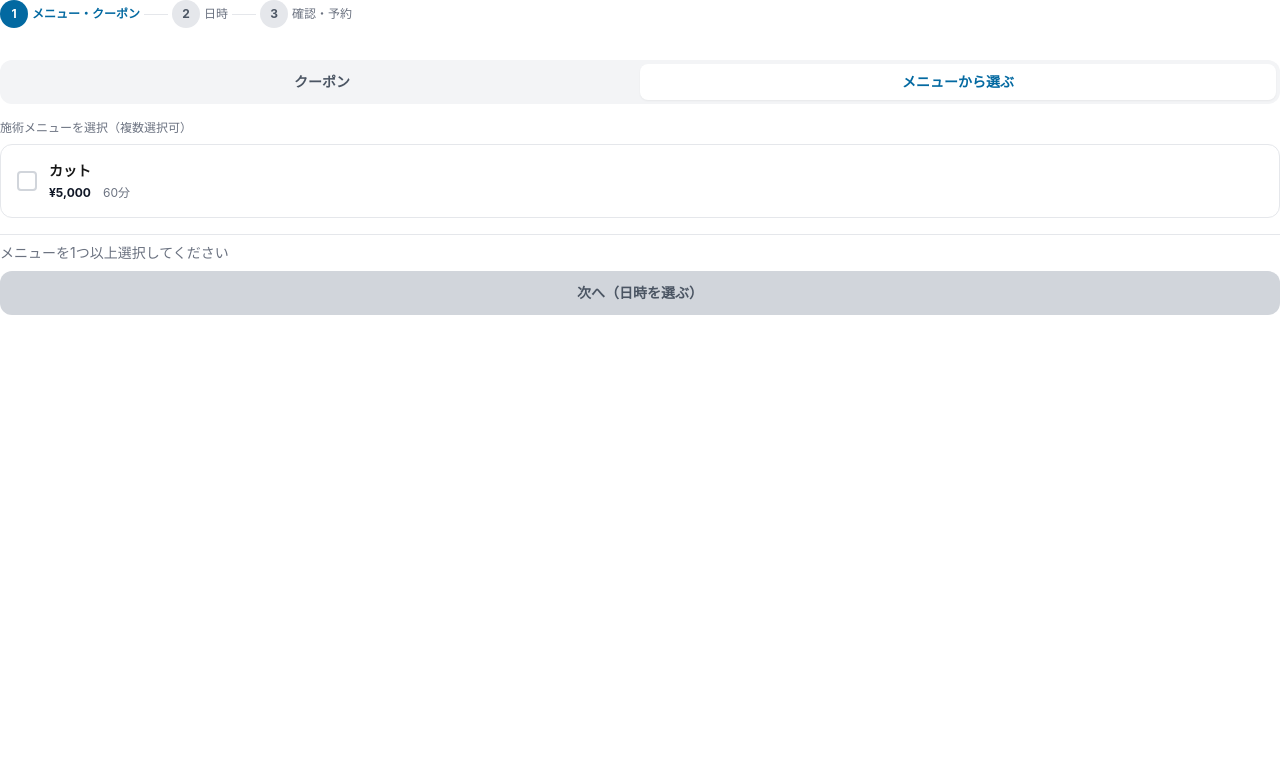
Scenario: 保存確認に失敗したlogin遷移は止め、現在の氏名・メール入力を維持する
The width and height of the screenshot is (1280, 757).
Click the text "カット" at (70, 171), box [49,161,91,181]
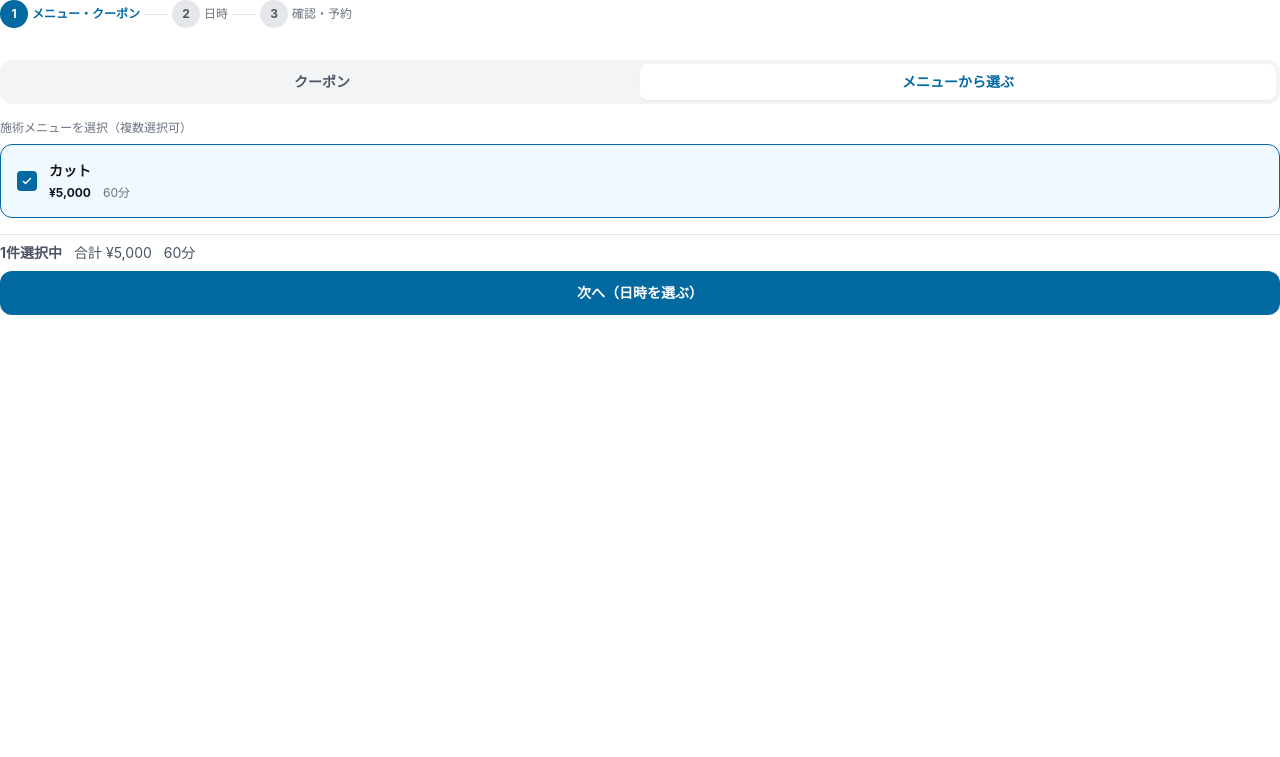
Click the button "次へ（日時を選ぶ）" at (640, 293), box [0,271,1279,315]
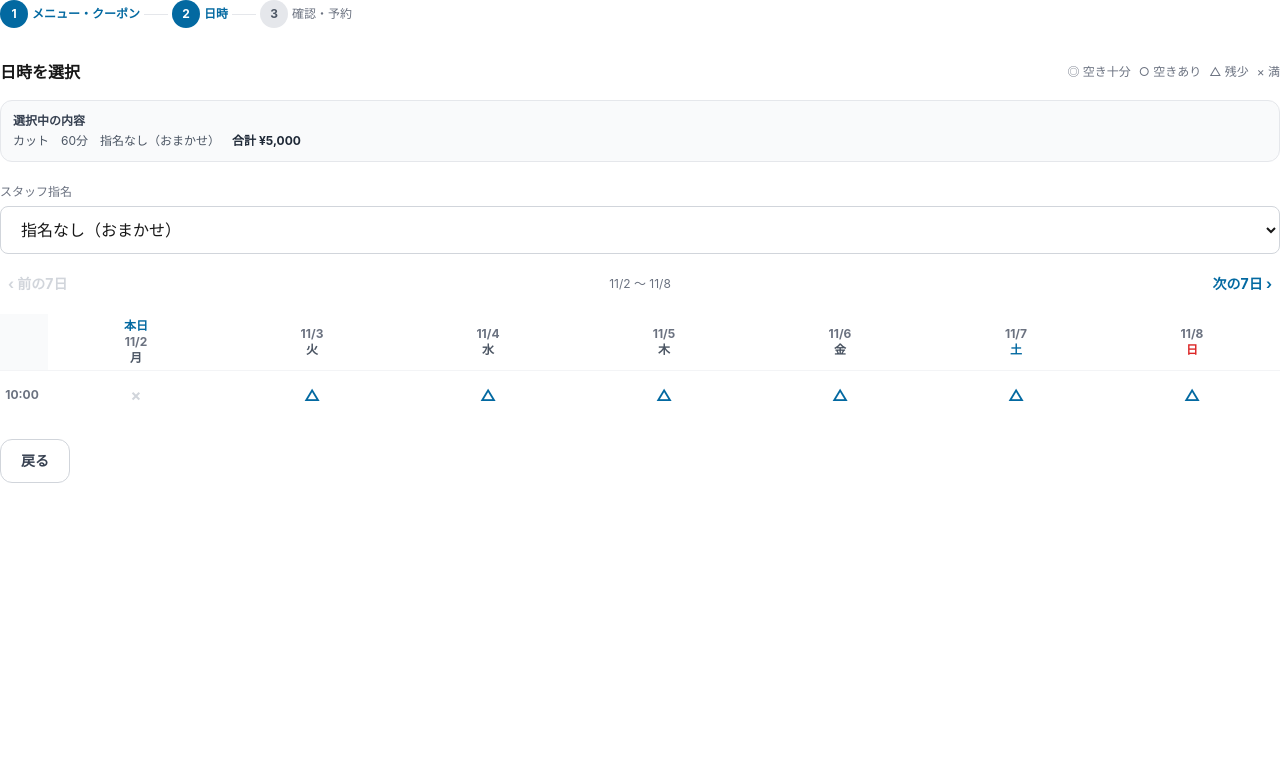
Click the 1st button "△" at (312, 395), box [226,373,398,417]
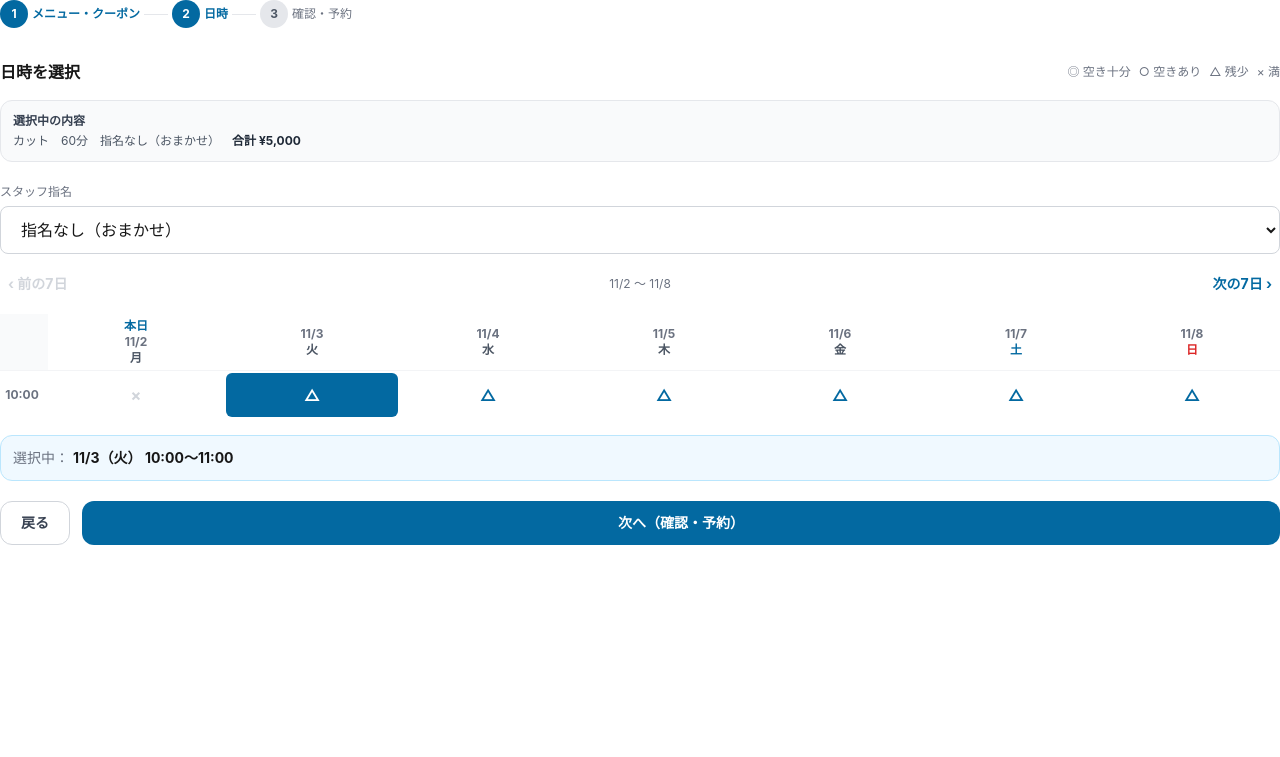
Click the button "次へ（確認・予約）" at (681, 523), box [82,501,1279,545]
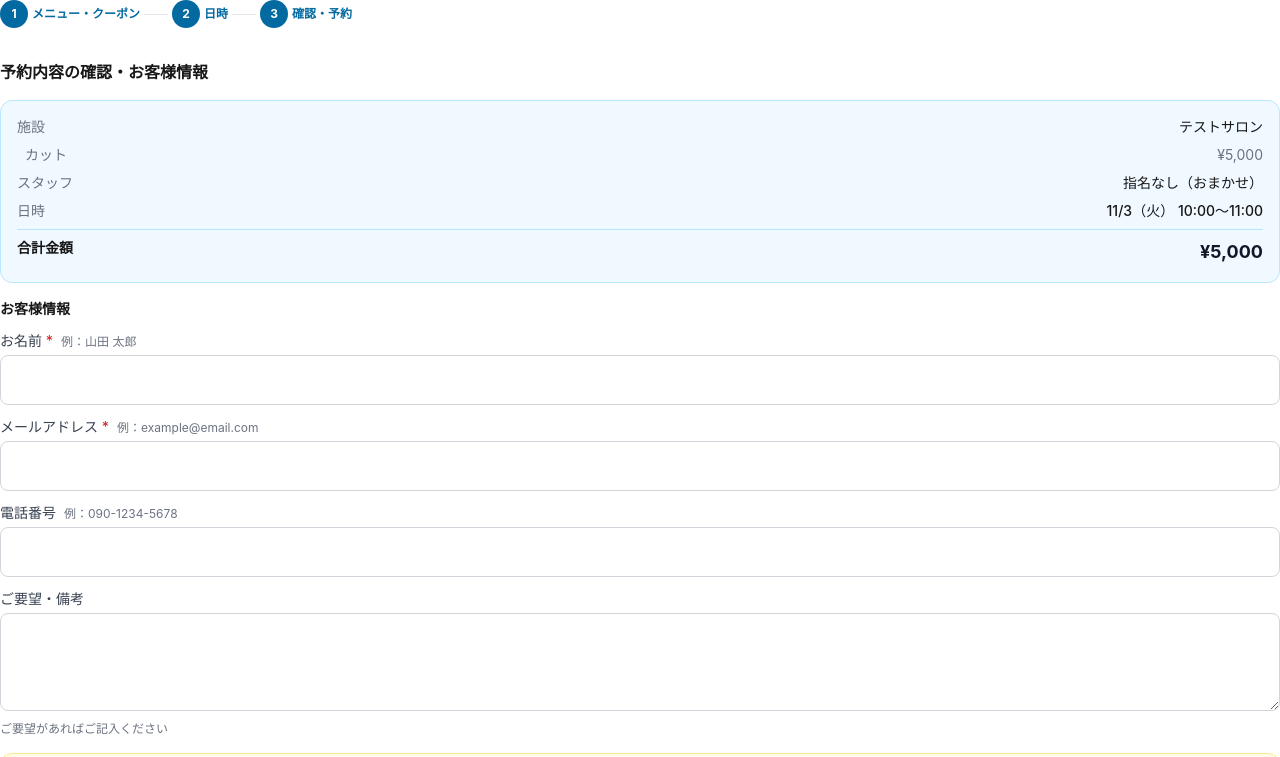
expect the heading "予約内容の確認・お客様情報" is shown: met, box [0,62,208,82]
Type "保持する合成氏名" into the field labelled "お名前 *例：山田 太郎" at (640, 380), box [0,355,1279,405]
Type "keep@example.invalid" into the field labelled "メールアドレス *例：example@email.com" at (640, 466), box [0,441,1279,491]
(page scrolled)
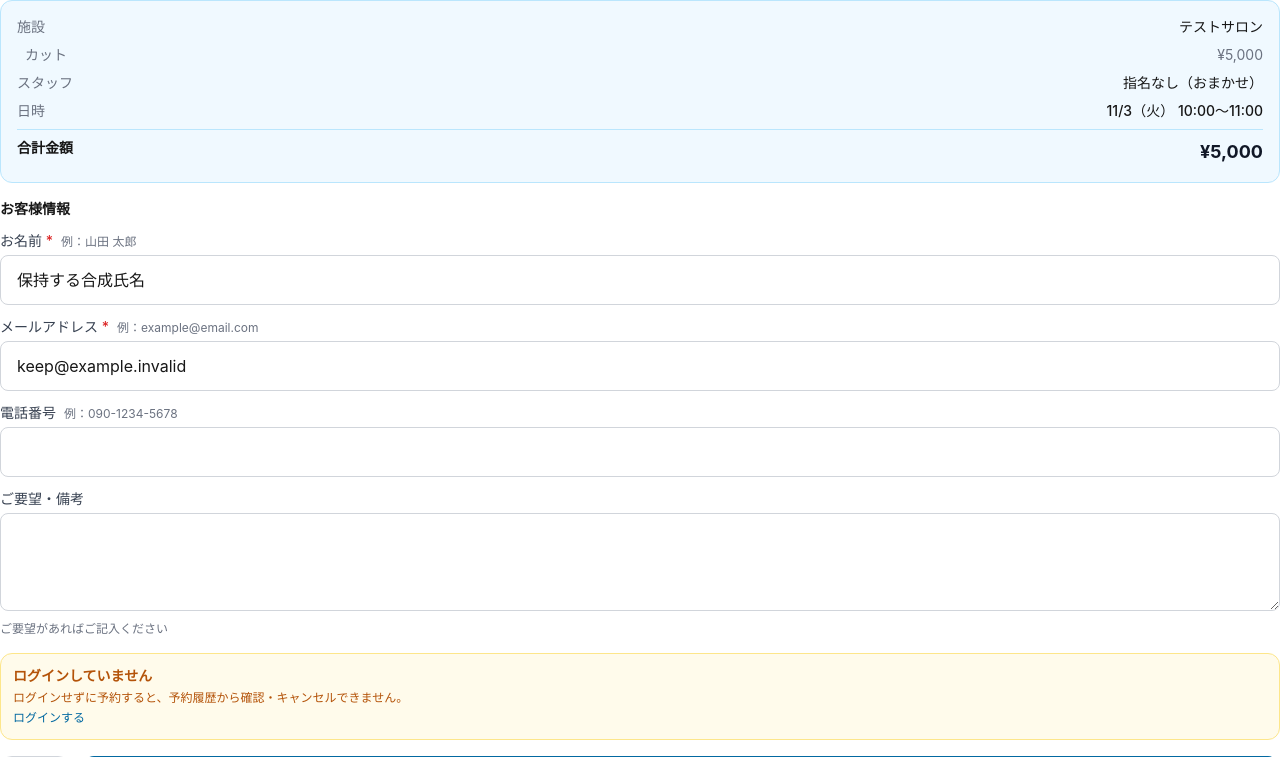
Click the link "ログインする" at (49, 718), box [13,710,85,726]
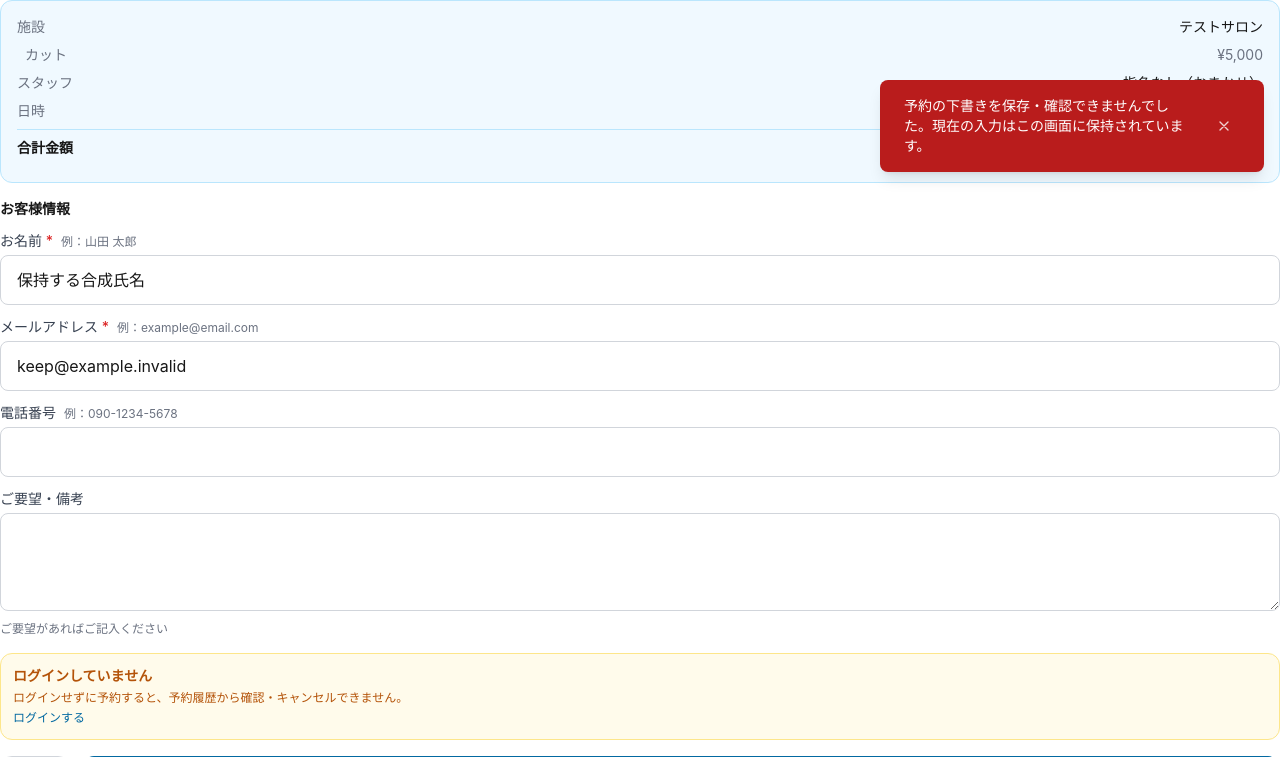
expect the text "予約の下書きを保存・確認できませんでした。現在の入力はこの画面に保持されています。" is shown: met, box [904,96,1196,156]
